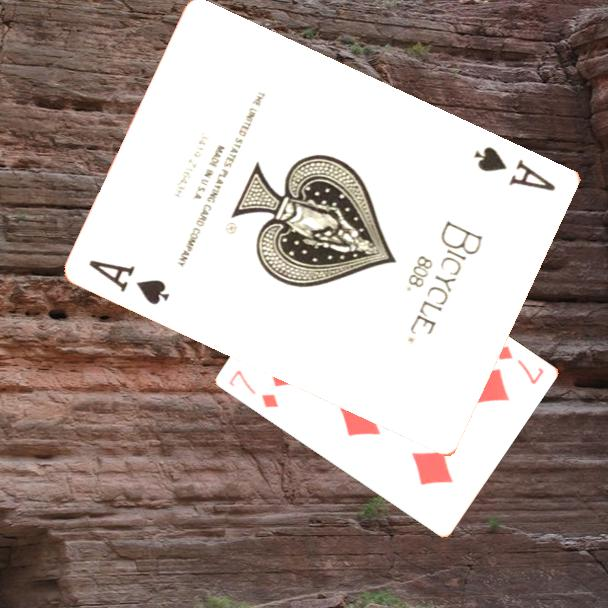d07: (491, 342, 547, 388), (225, 366, 281, 411)
s01: (471, 142, 560, 194), (85, 256, 174, 308)
